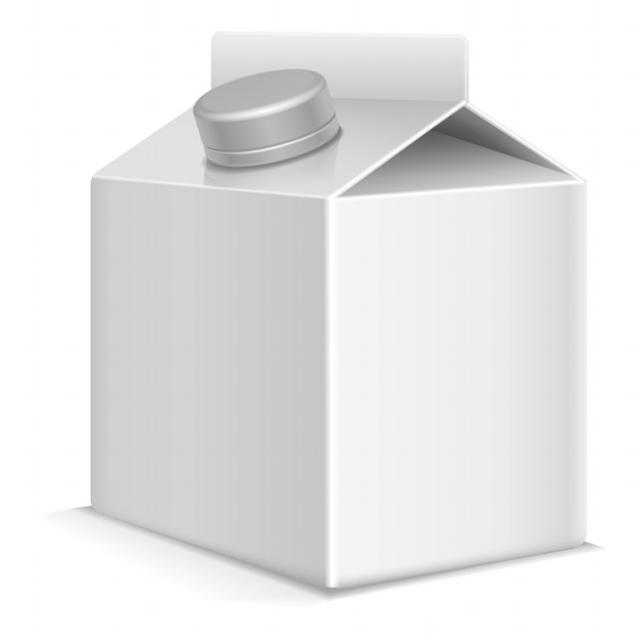non_white_jug: (66, 30, 584, 603)
